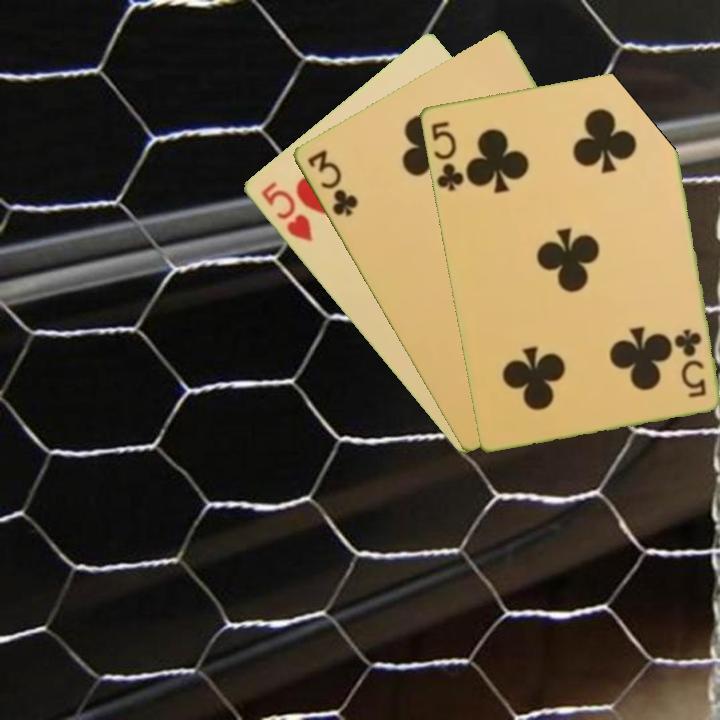3c: (303, 146, 361, 219)
5c: (427, 117, 466, 194), (672, 324, 709, 401)
5h: (256, 177, 315, 245)
